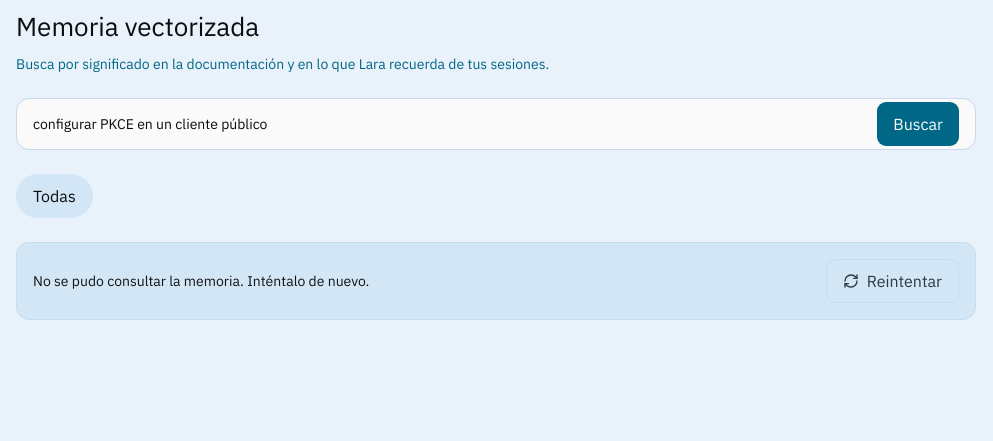
Test: MemoriaPage › permite reintentar una búsqueda que falló
Click the button "Reintentar".
click(892, 281)  # box x1=826 y1=259 x2=959 y2=303
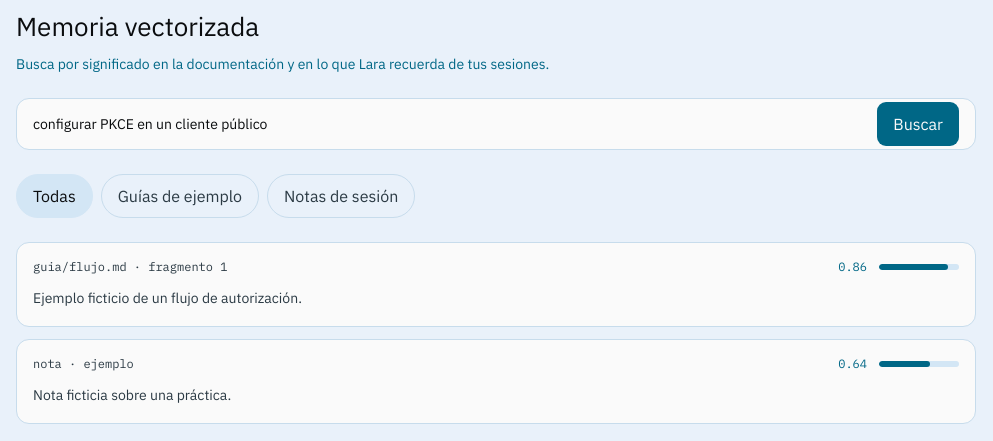
Check: the text "guia/flujo.md · fragmento 1" is shown, box x1=33 y1=259 x2=227 y2=274
